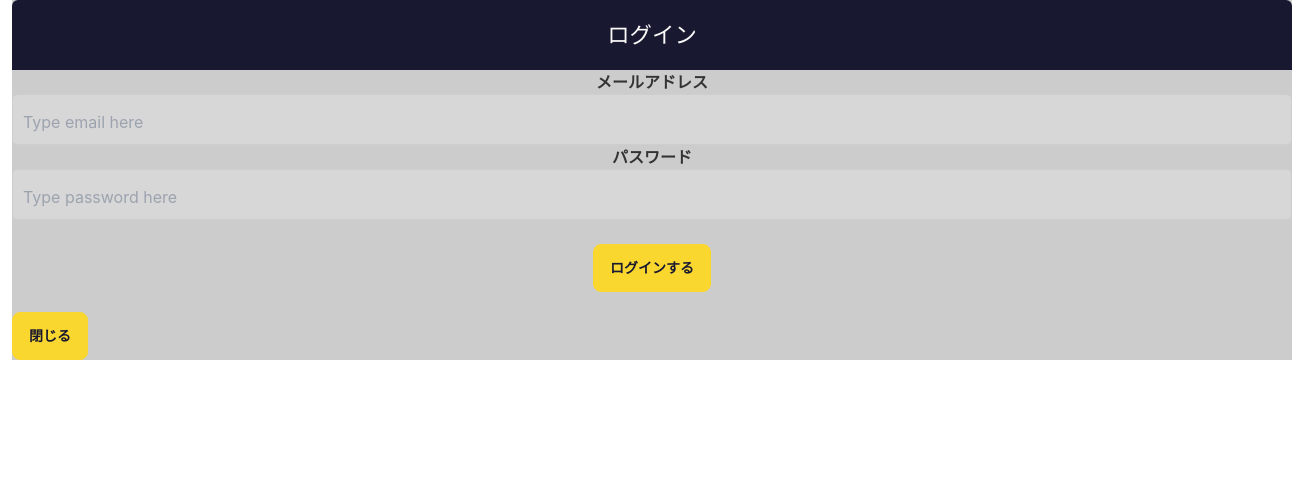
SignIn password › パスワード5文字以内の場合、エラーメッセージを表示
This screenshot has width=1304, height=489.
In the password field with placeholder "Type password here": (652,194) x1=12 y1=169 x2=1292 y2=220, type "aaaaa"
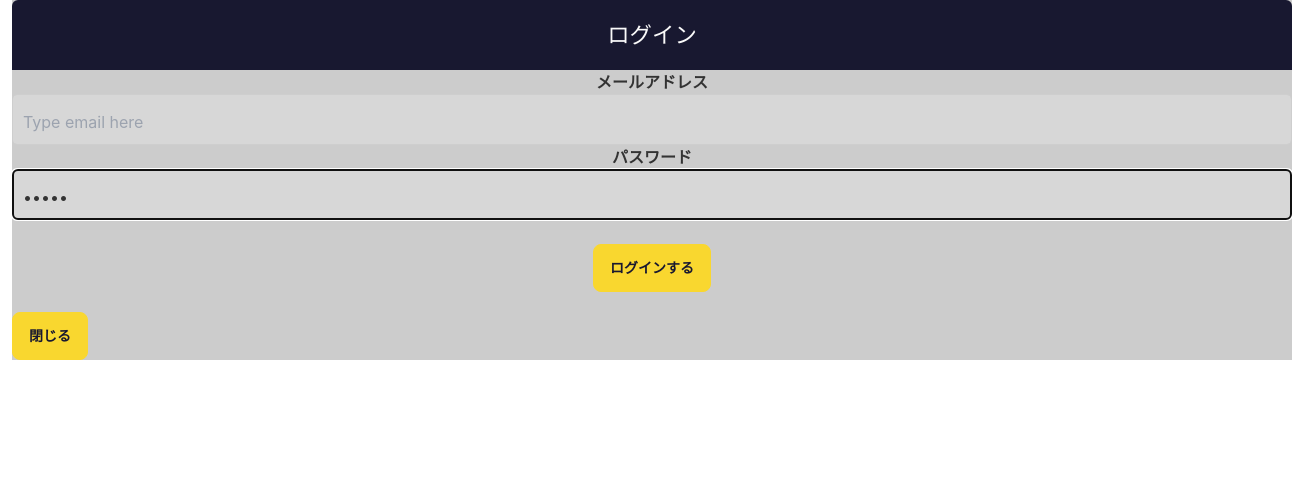
Click the button "ログインする": (652,268) x1=593 y1=244 x2=711 y2=292
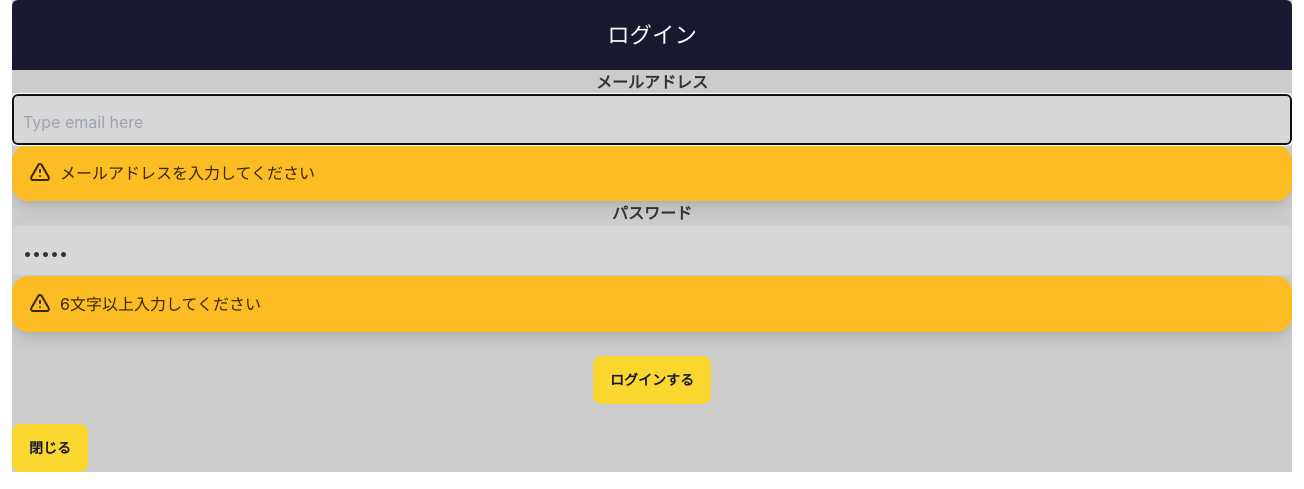
Check: the text "6文字以上入力してください" is shown, box x1=60 y1=292 x2=261 y2=316
